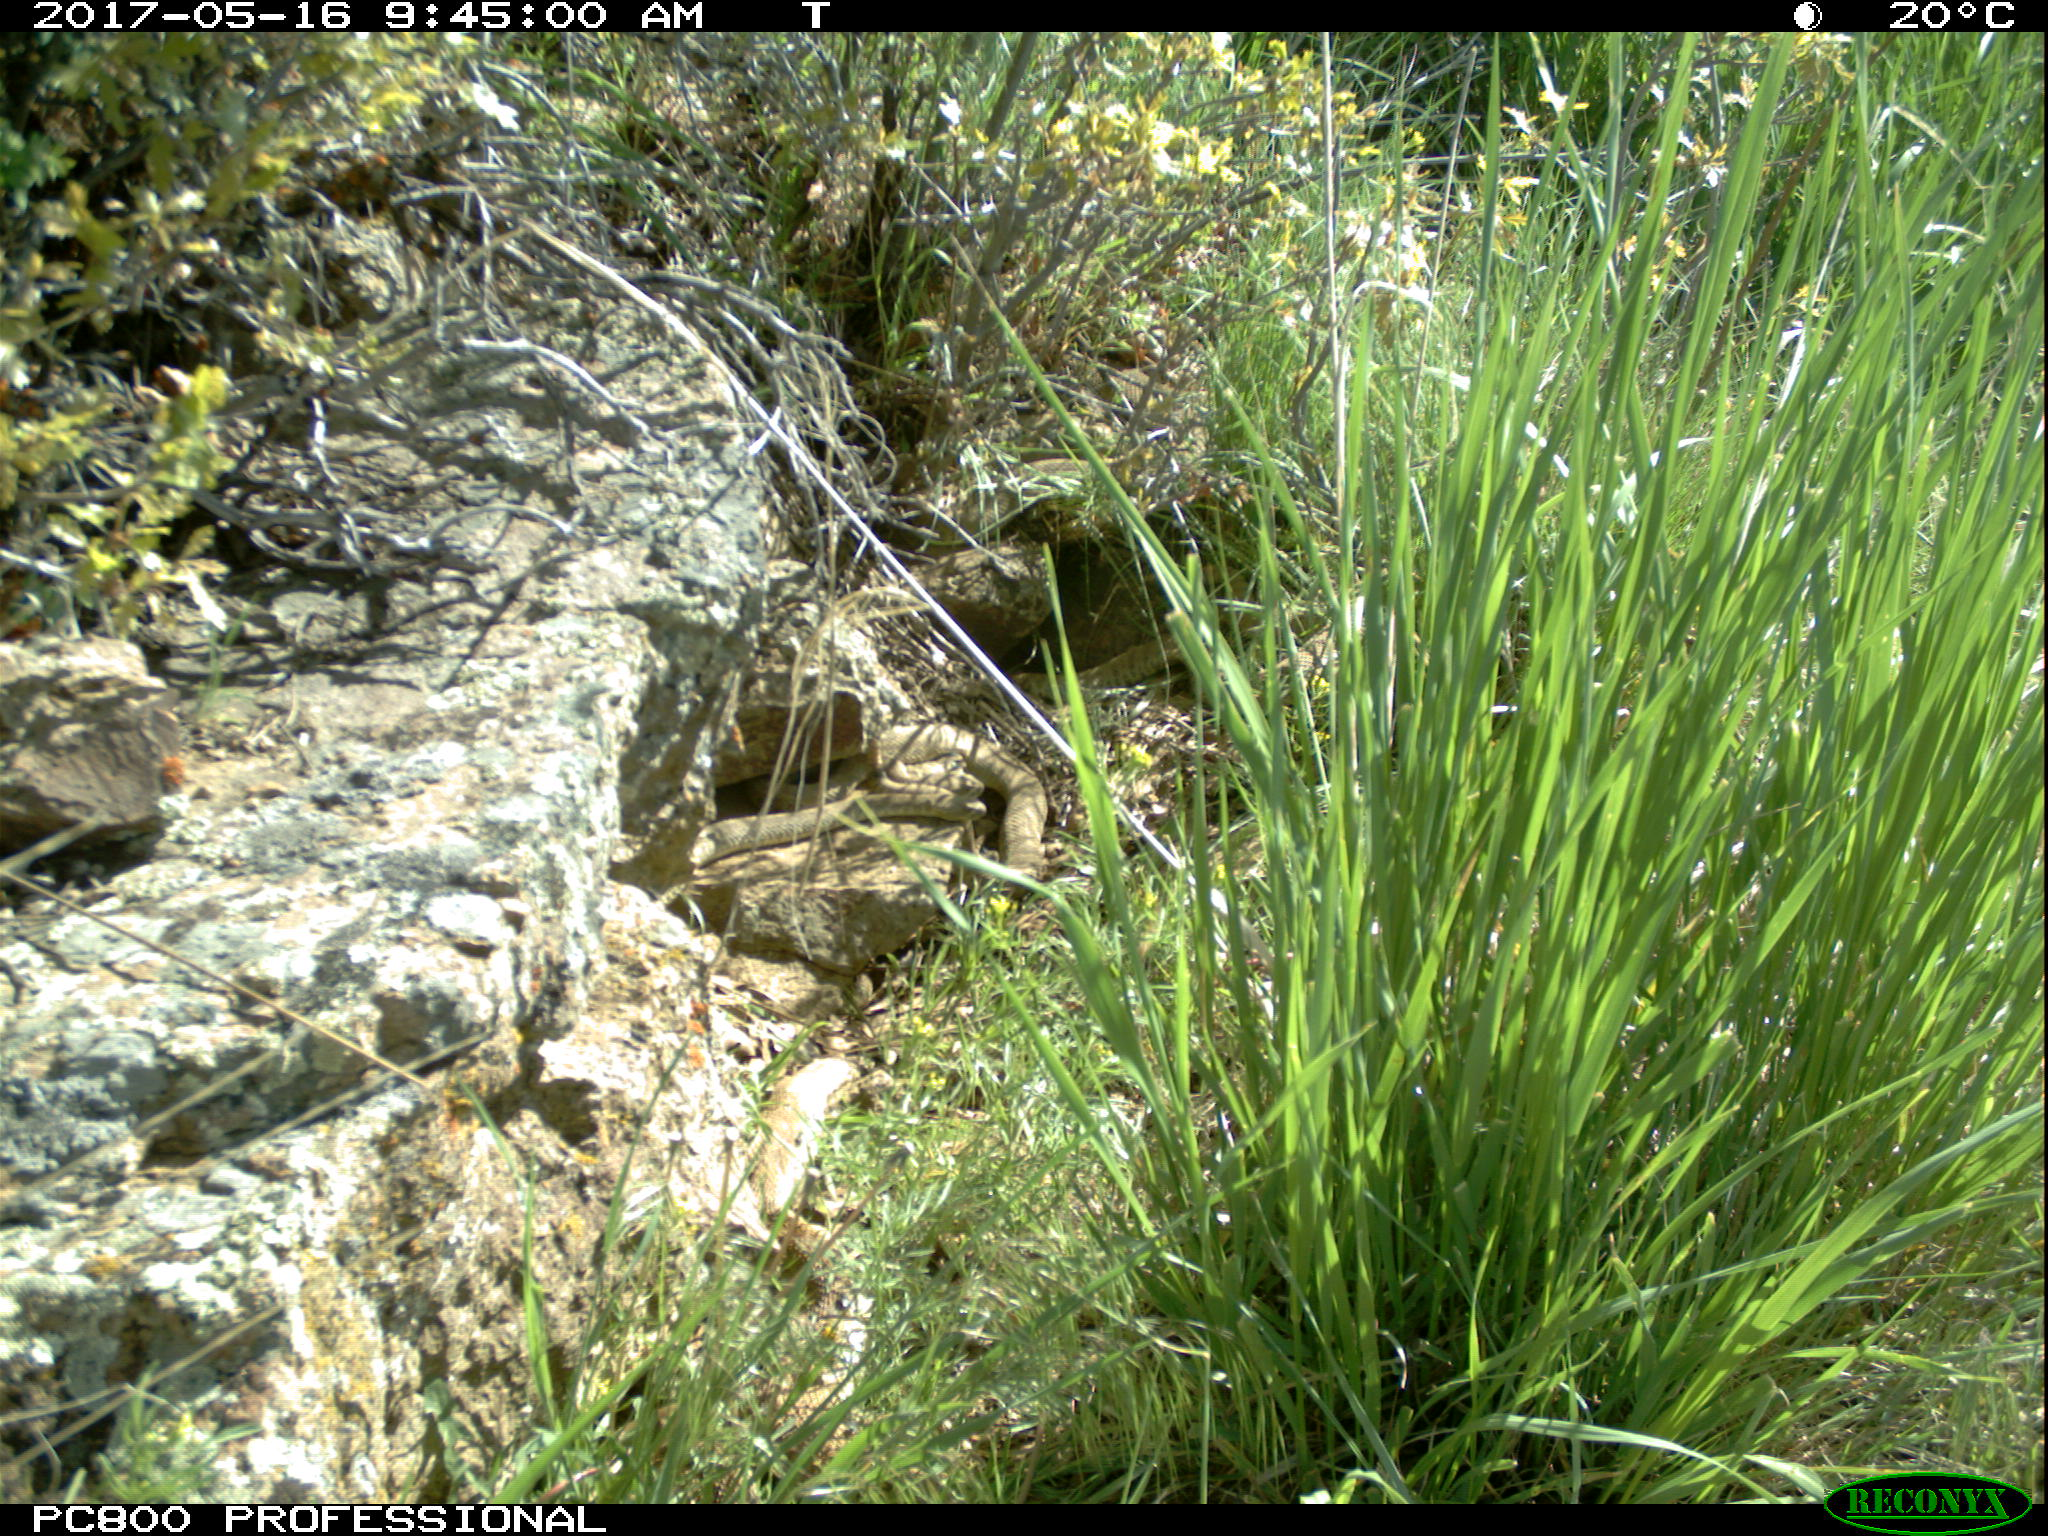snake: (755, 1054, 864, 1426), (868, 718, 1050, 884), (695, 783, 992, 862), (1021, 632, 1188, 697)
